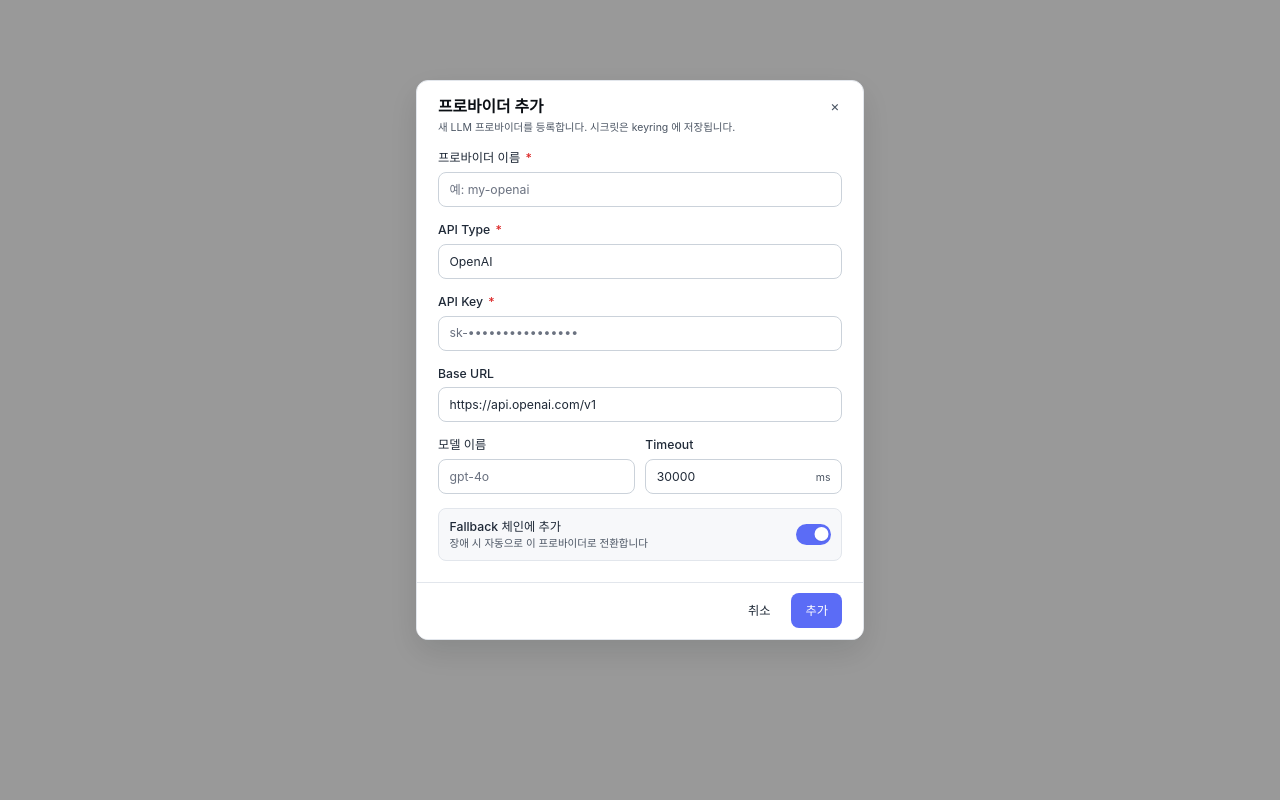
Test case: AddProviderModal › 이름이 허용되지 않는 문자를 포함하면 에러
Type "bad name!" into the field with test id "add-provider-name" at (640, 190), box x1=450 y1=181 x2=830 y2=198
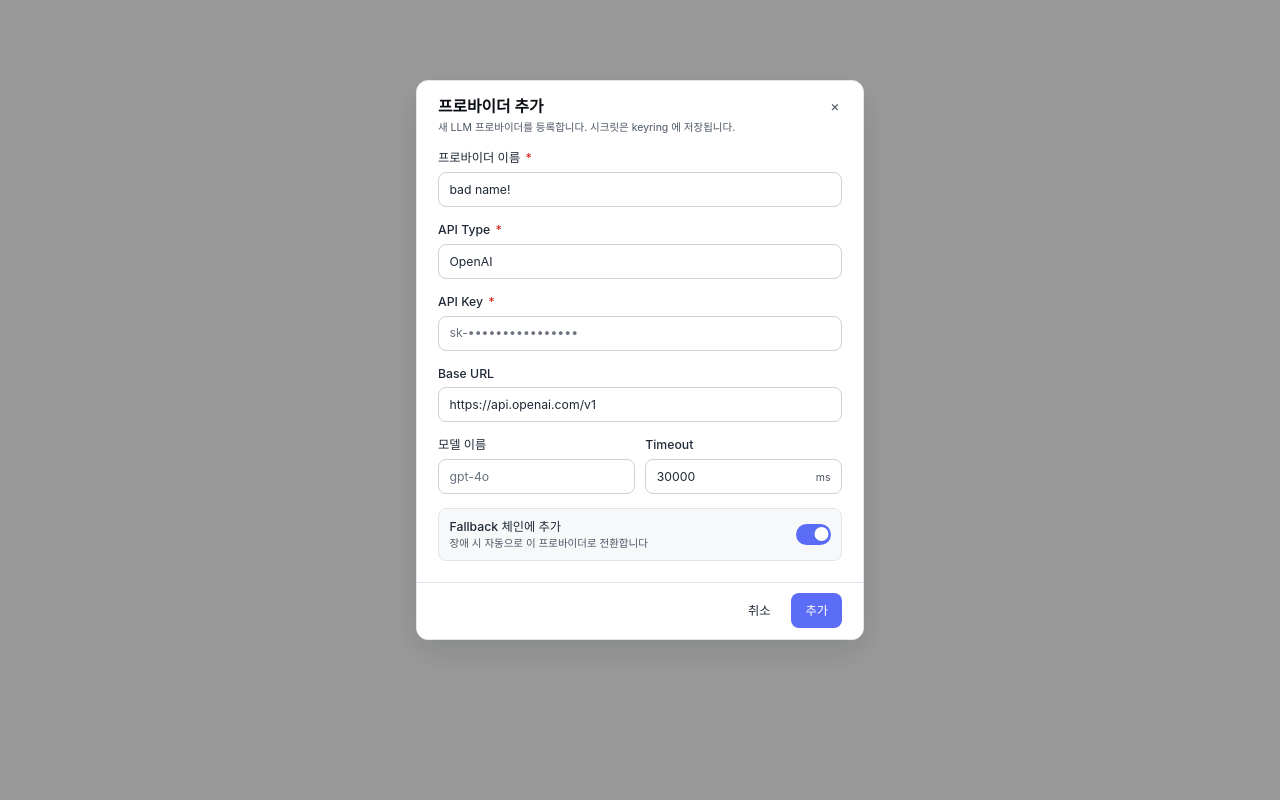
Type "sk-x" into the password field with test id "add-provider-api-key" at (640, 333), box x1=450 y1=324 x2=830 y2=342
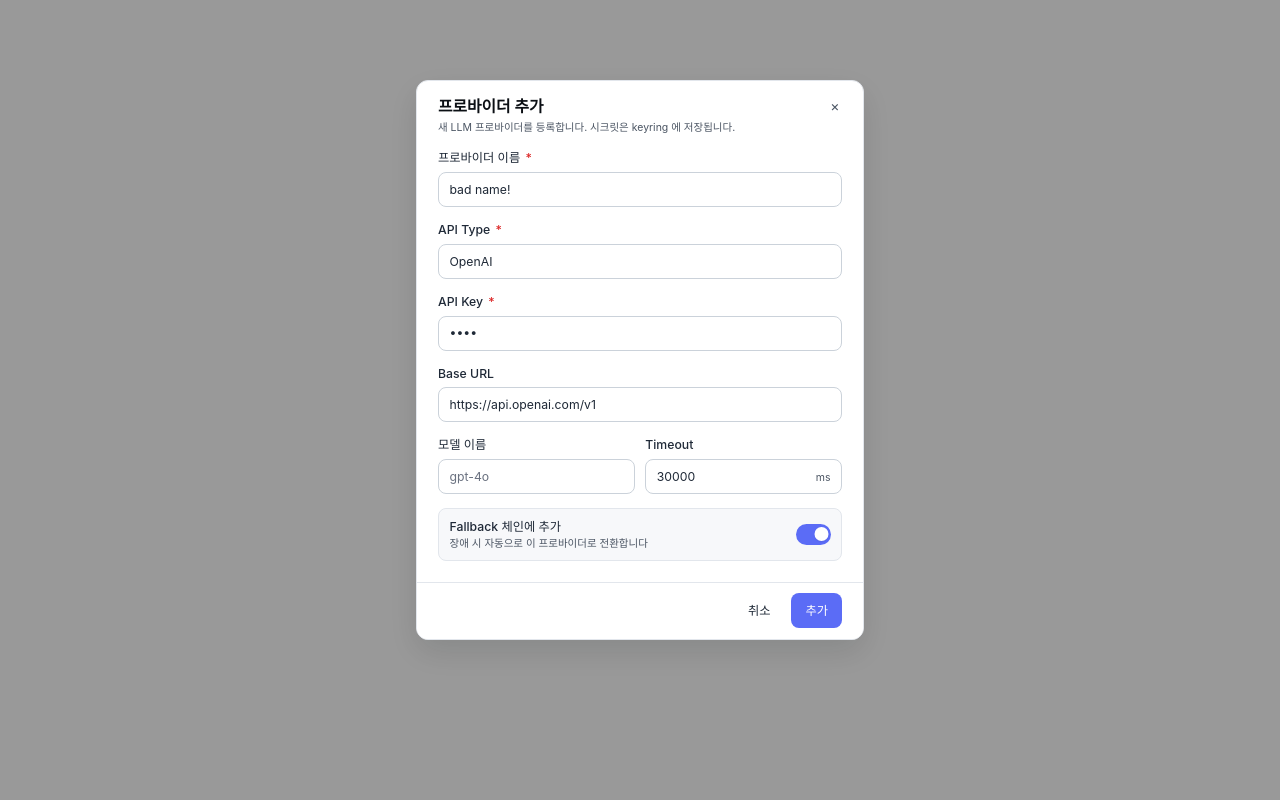
Click the button with test id "add-provider-submit" at (817, 611), box x1=792 y1=593 x2=842 y2=628
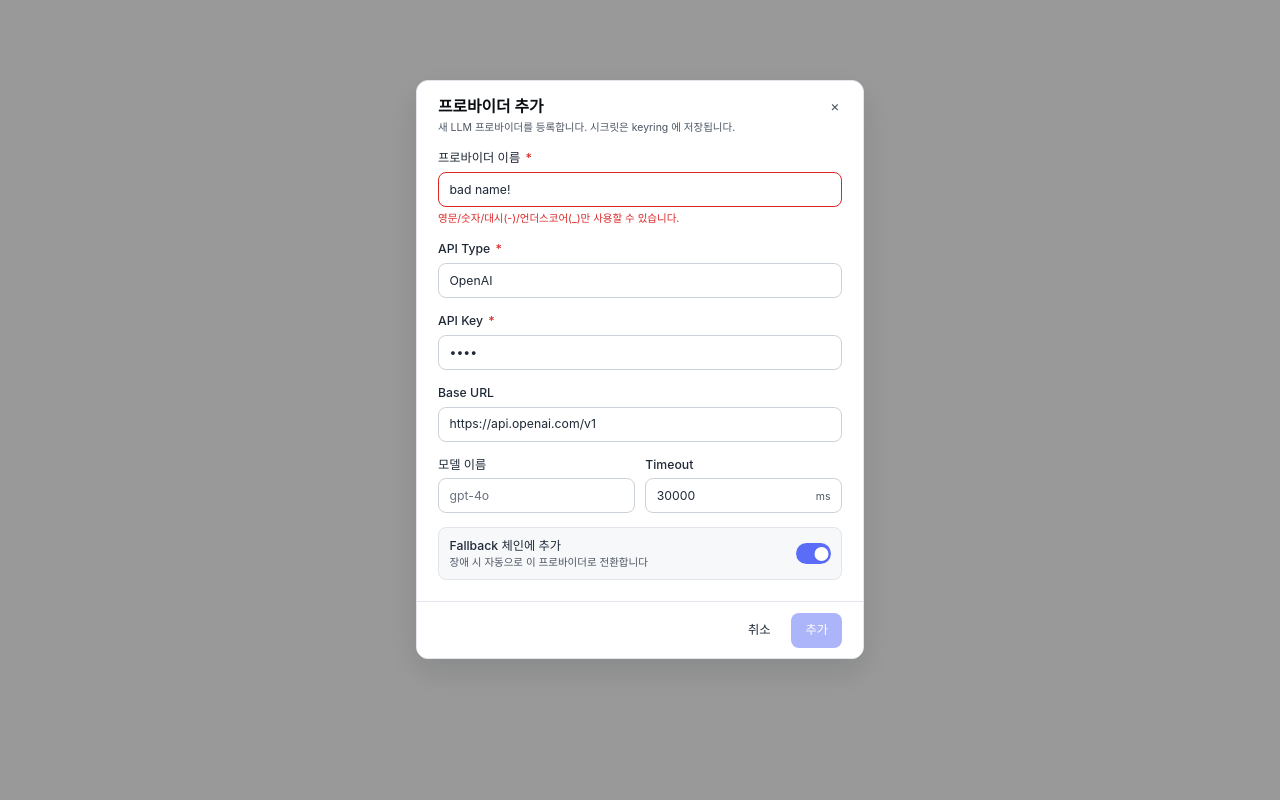
Now the message "영문/숫자/대시(-)/언더스코어(_)만 사용할 수 있습니다." is shown, box x1=438 y1=212 x2=679 y2=225
